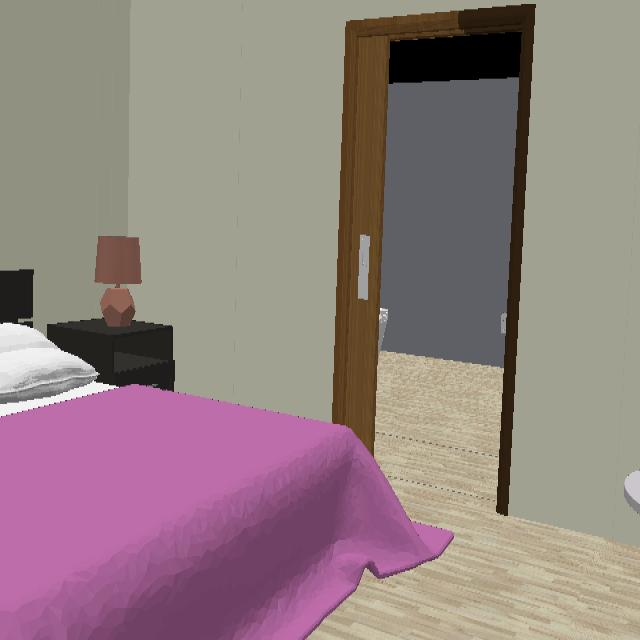bed: (0, 383, 452, 638)
lamp: (95, 237, 141, 327)
nighttable: (48, 318, 175, 391)
pillow: (0, 323, 98, 402)
